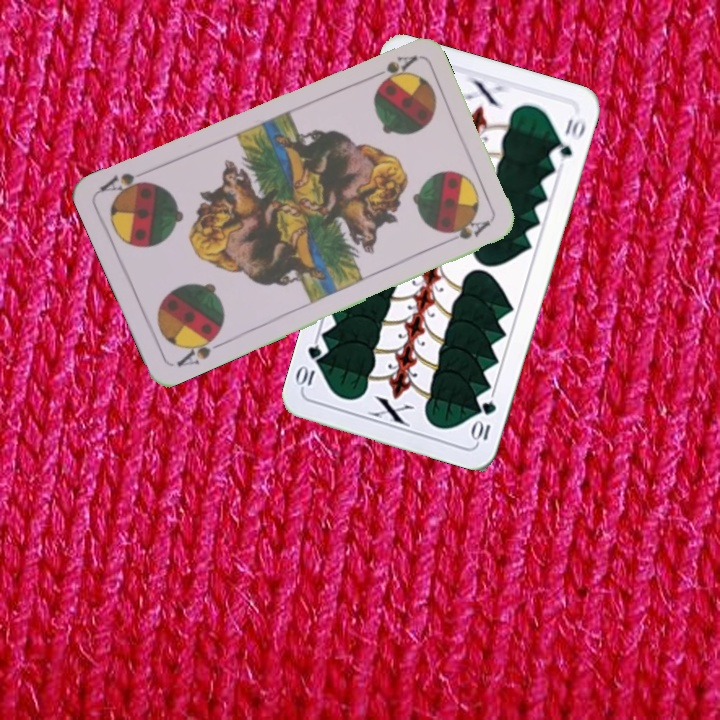G10: (469, 397, 499, 445)
SA: (172, 328, 227, 370), (363, 51, 419, 83)
